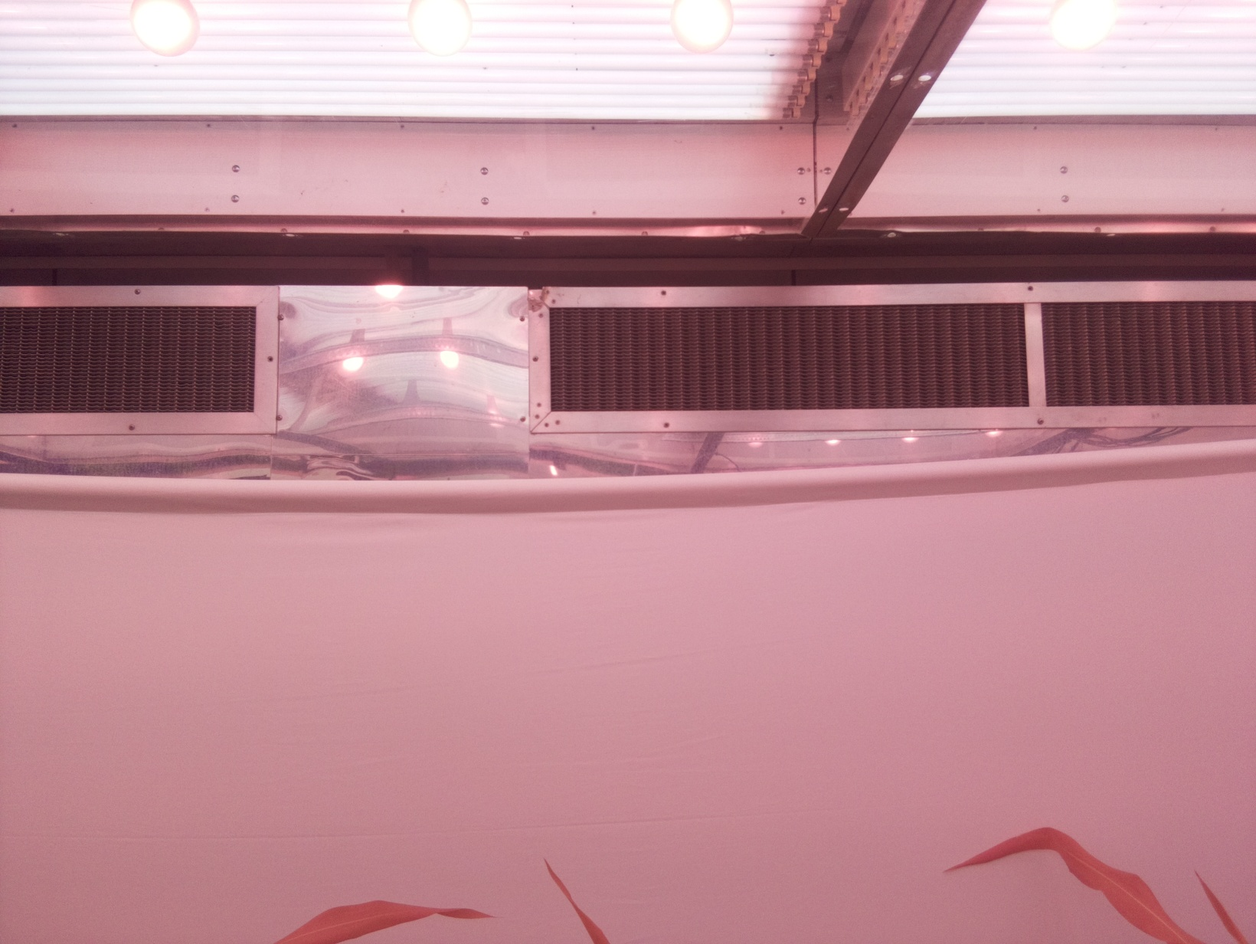maize: (943, 825, 1256, 944), (272, 857, 613, 944)
